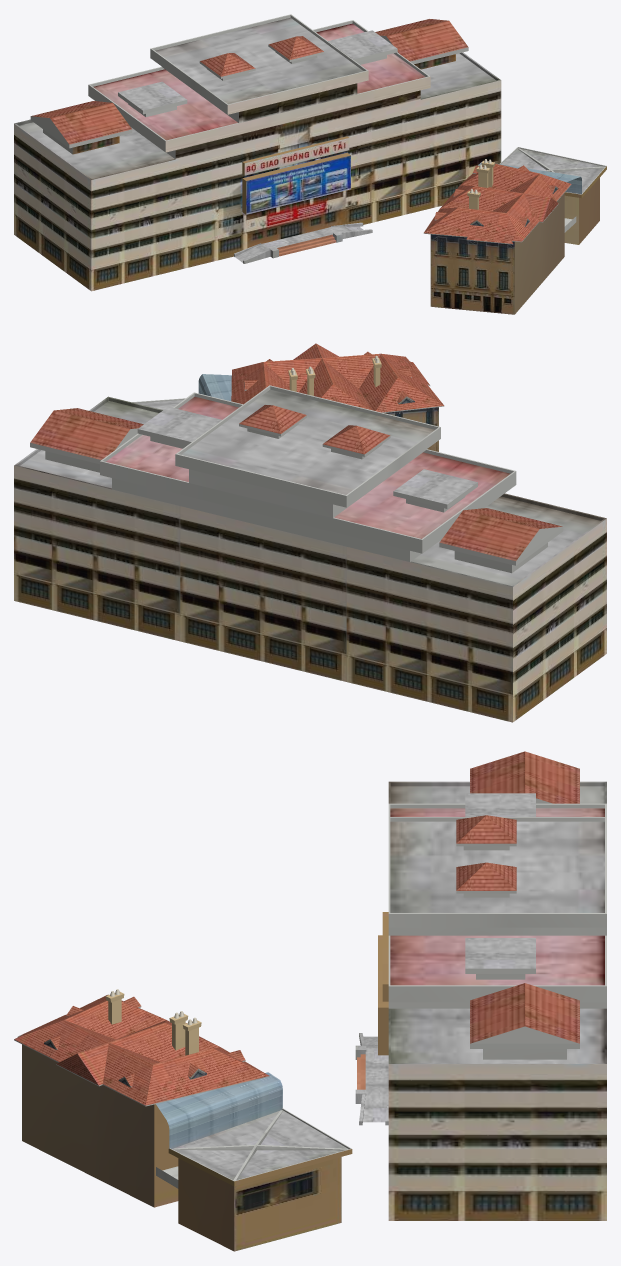
The picture shows the model from 3 angles, top to bottom: view 1: azimuth 30°, elevation 25°; view 2: azimuth 150°, elevation 25°; view 3: azimuth 270°, elevation 25°; orthographic projection. The views are drawn at different scales.
Parts seen in each view (by area): view 1: HN577_BoGiaoThongVanTai; view 2: HN577_BoGiaoThongVanTai; view 3: HN577_BoGiaoThongVanTai.
Boxes of the visible parts, x1,y1,x2,y2 form: HN577_BoGiaoThongVanTai: [14, 14, 606, 314]; HN577_BoGiaoThongVanTai: [14, 343, 606, 722]; HN577_BoGiaoThongVanTai: [14, 751, 606, 1251].
Bounding box in the file's own units: 78.07 × 27.68 × 61.62.
Materials: 1 (1 with a texture image).
